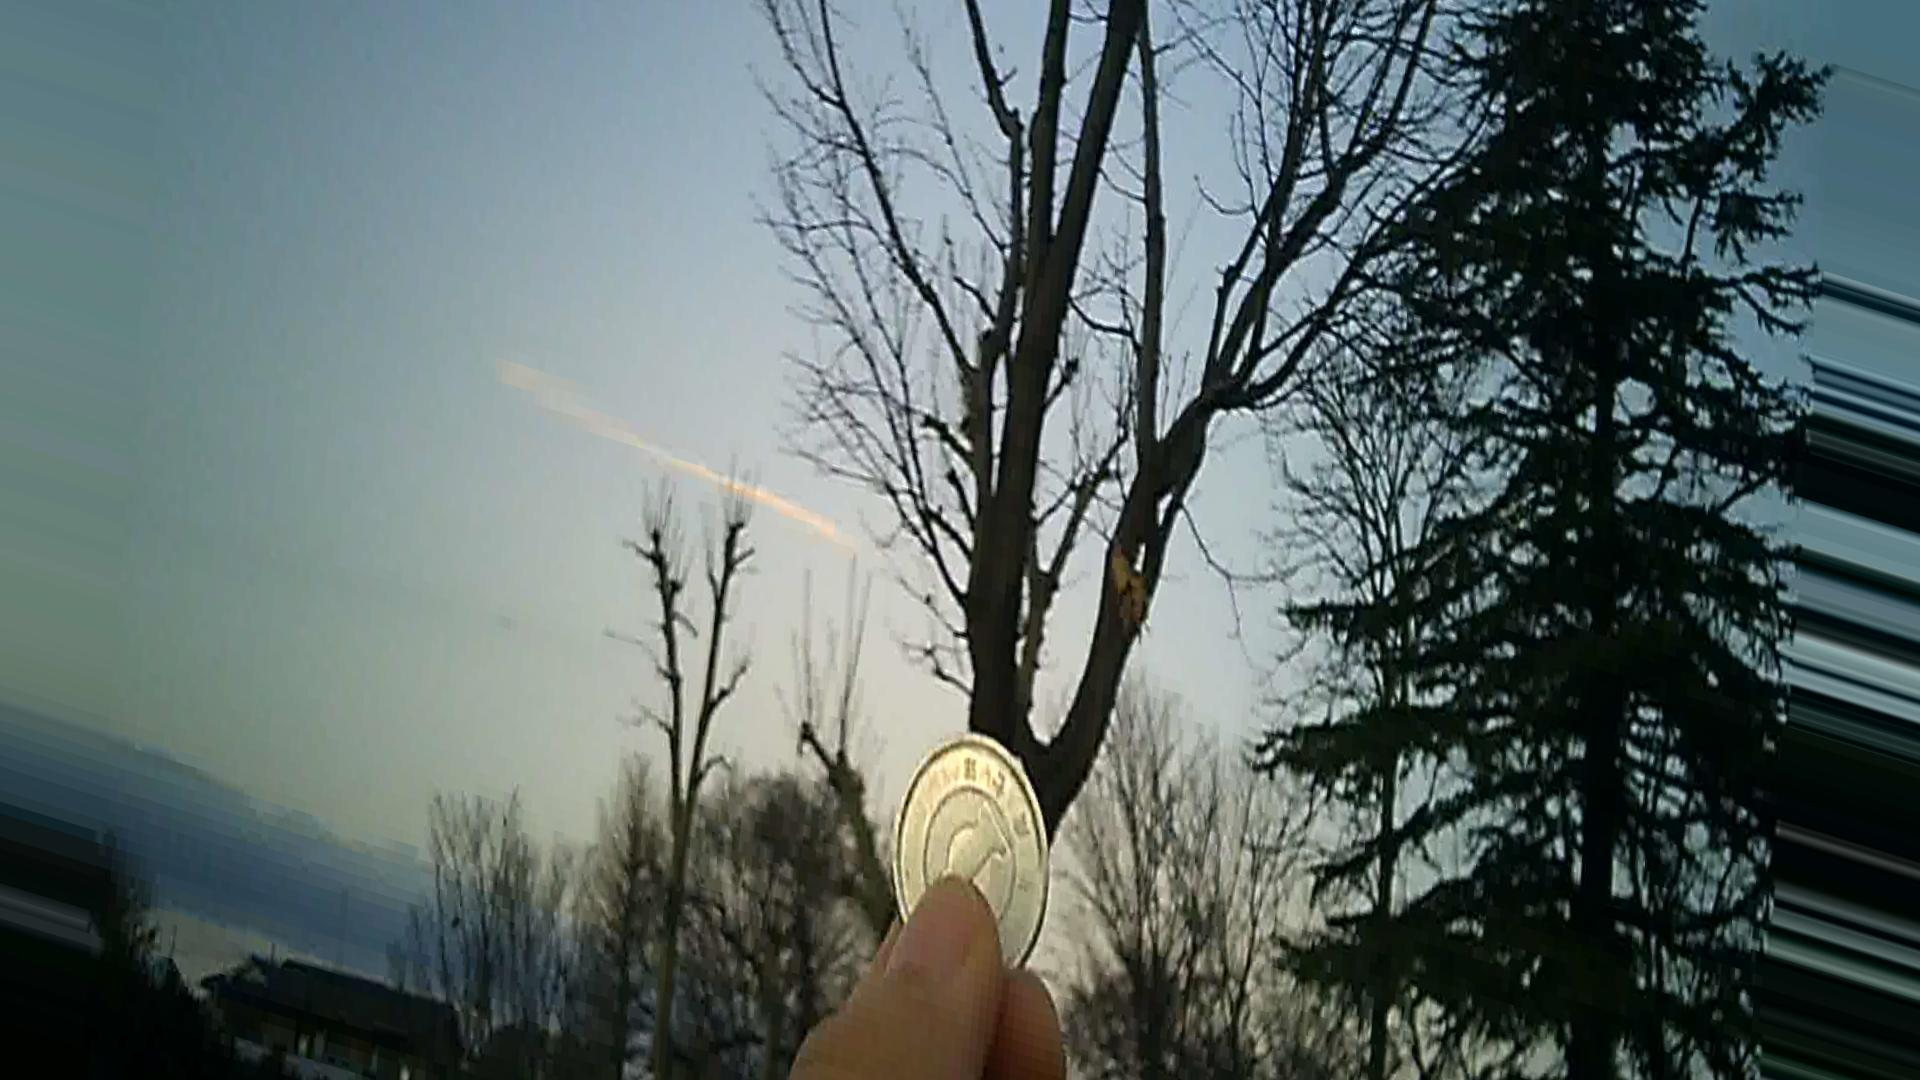1 Yen: (880, 736, 1064, 982)
